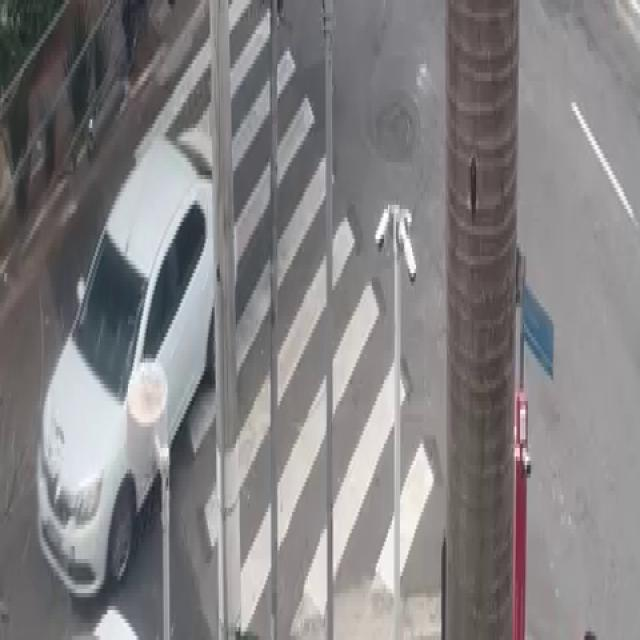car: (29, 184, 249, 583)
